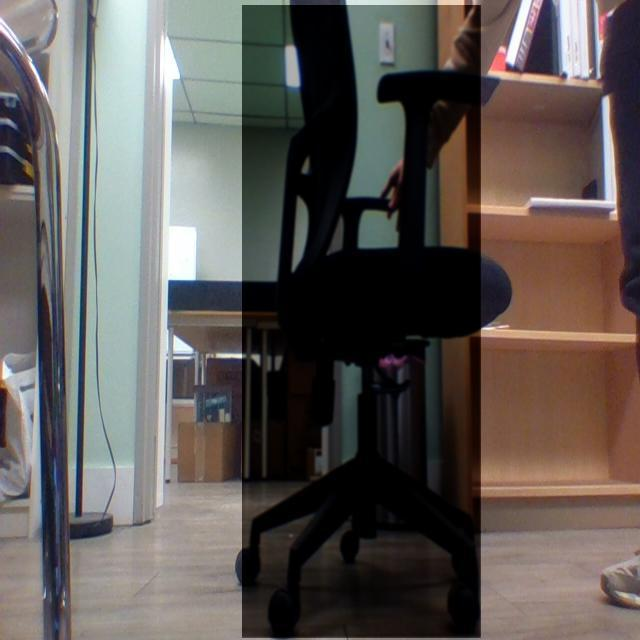chair: (245, 0, 516, 632)
light: (277, 37, 298, 92), (168, 35, 185, 85)
table: (169, 269, 342, 485)
